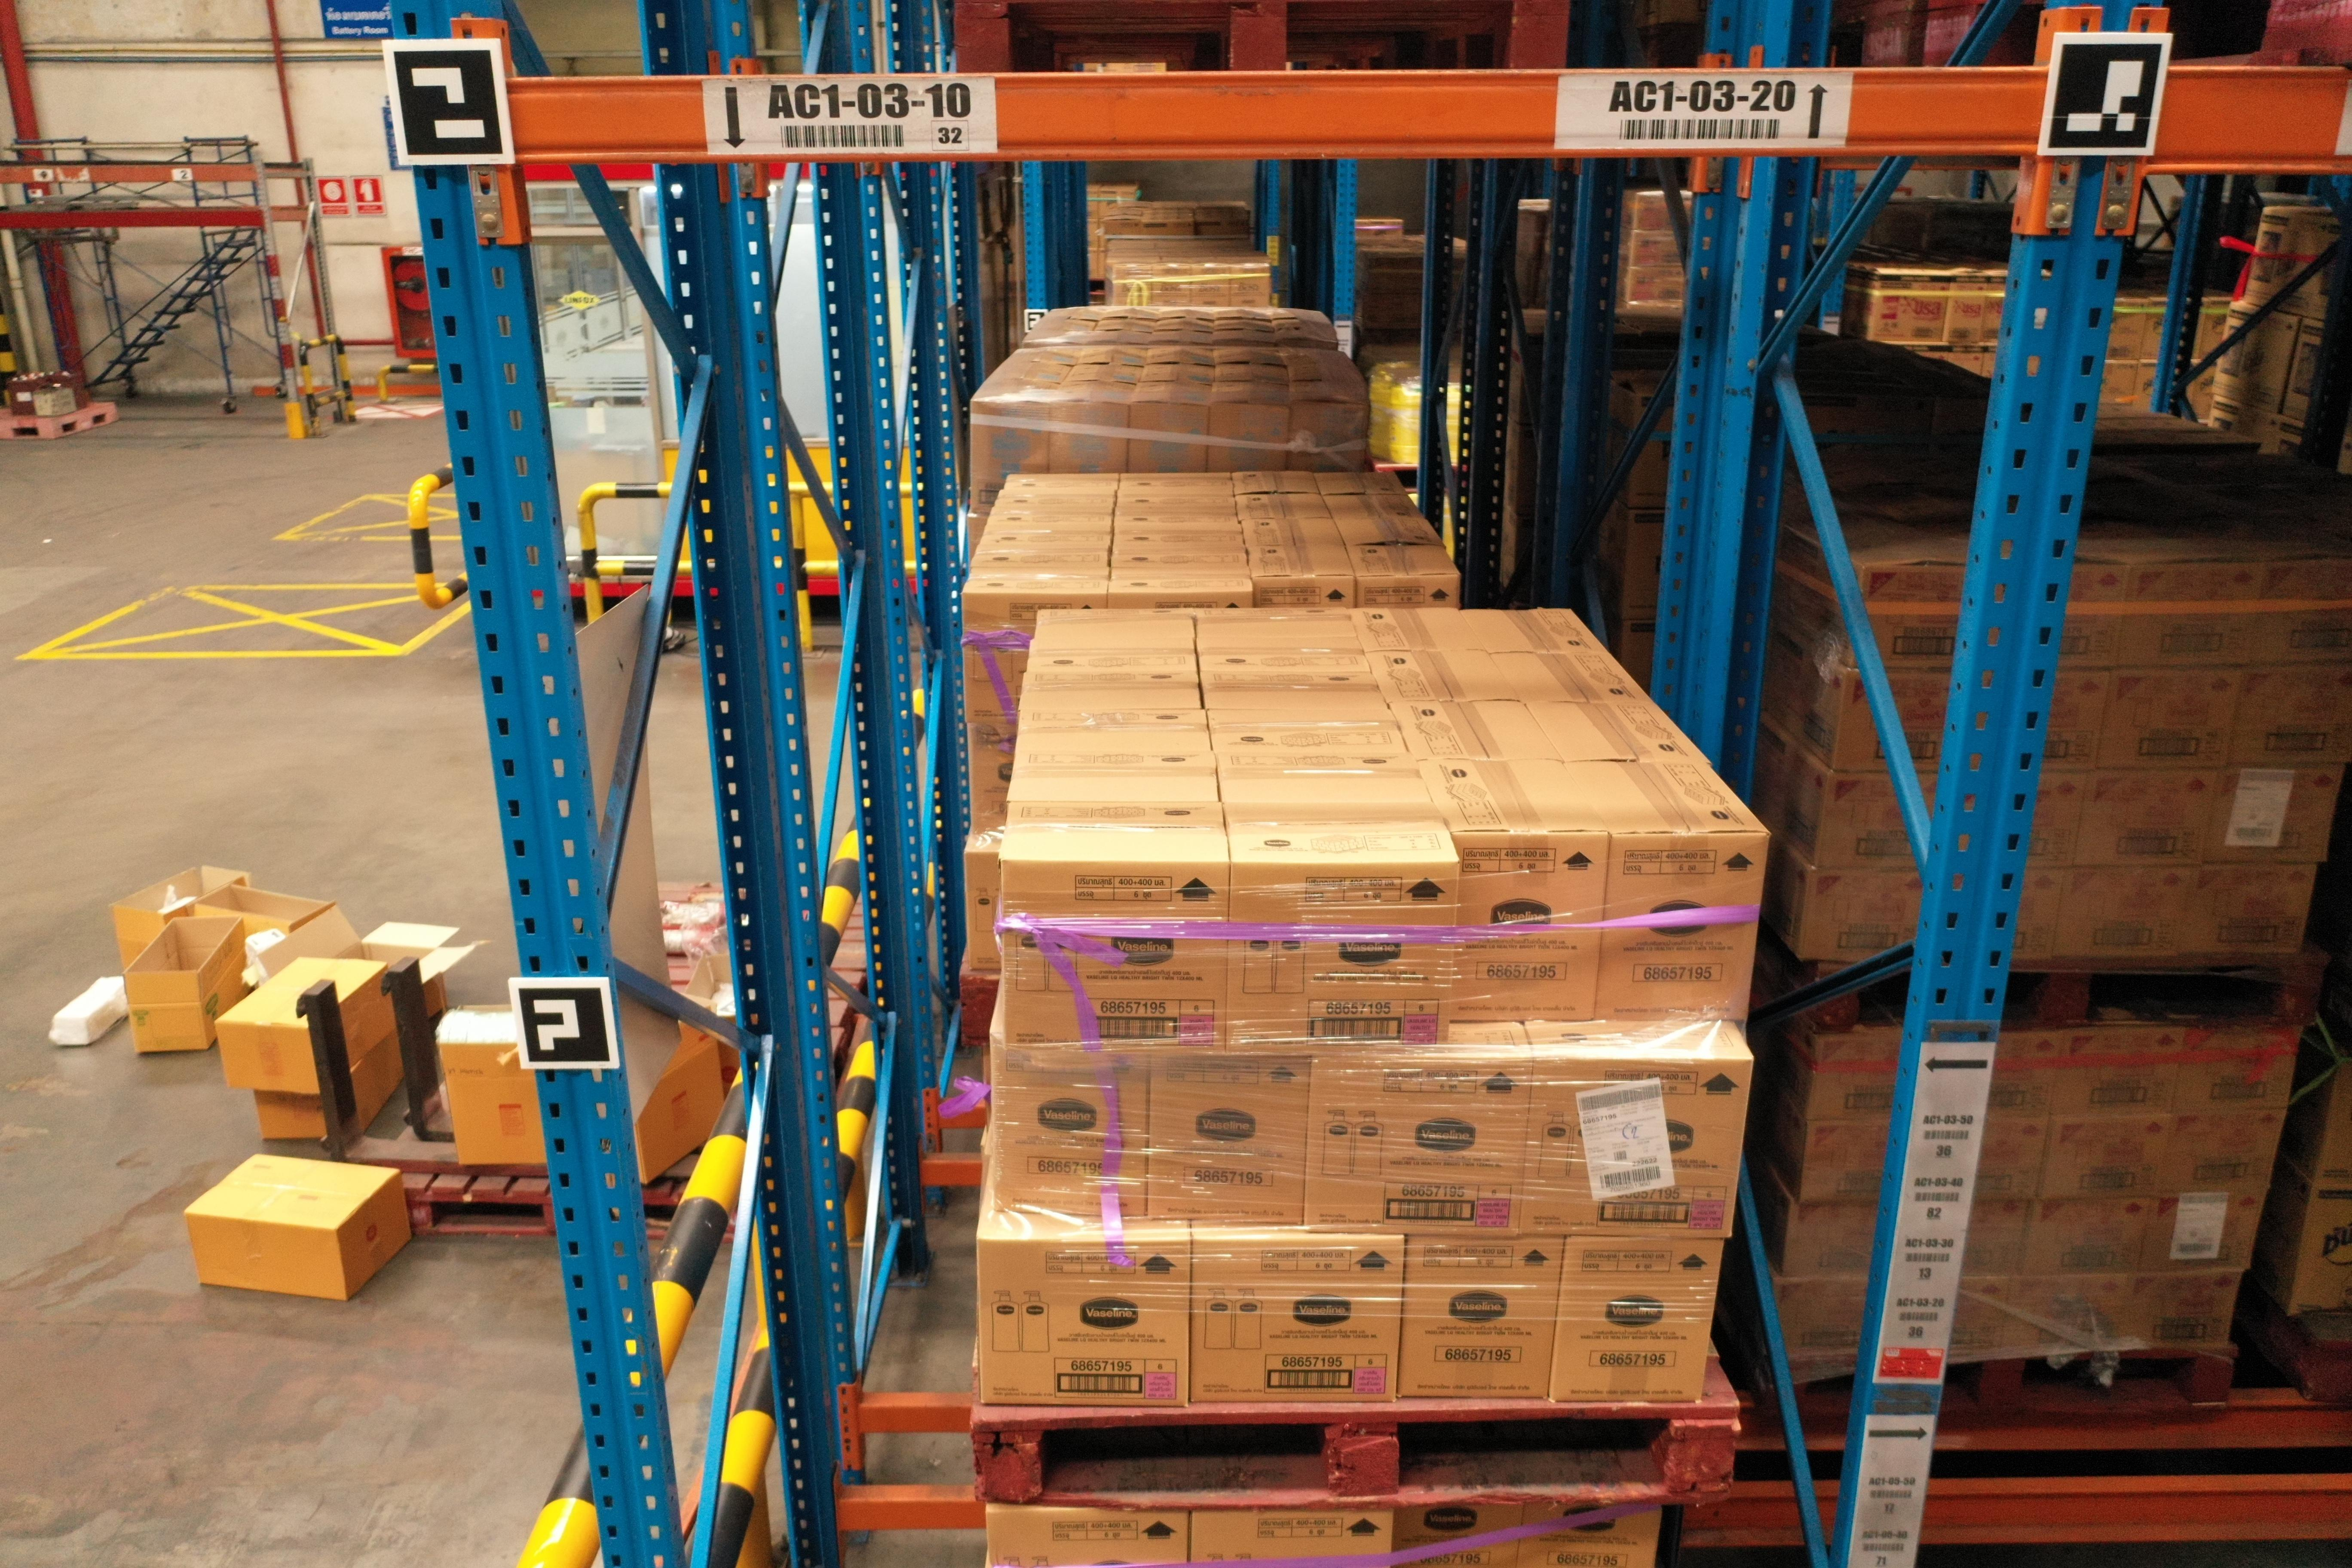-: (1223, 861, 1461, 1055), (1519, 1055, 1755, 1242), (1307, 1046, 1535, 1237), (1001, 857, 1227, 1048), (1185, 1237, 1405, 1403), (976, 1237, 1190, 1407), (1592, 831, 1769, 1024), (1449, 829, 1612, 1024), (990, 1036, 1153, 1221), (1150, 1046, 1312, 1227), (1552, 1234, 1724, 1403), (1395, 1234, 1564, 1398), (983, 1505, 1190, 1568), (1186, 1507, 1391, 1568), (1515, 1501, 1664, 1568), (1388, 1507, 1524, 1568)
box: (2114, 558, 2277, 668), (2095, 667, 2245, 770), (2201, 765, 2347, 868), (2075, 766, 2222, 864), (2056, 861, 2198, 961), (1797, 864, 1930, 968), (2046, 1027, 2180, 1123), (1836, 667, 1951, 779), (1816, 770, 1944, 870), (2037, 1115, 2173, 1207), (2229, 668, 2352, 772), (2180, 864, 2319, 955), (1855, 563, 1969, 670), (2250, 556, 2352, 668), (2018, 1199, 2154, 1281), (2175, 1031, 2298, 1122), (2158, 1113, 2287, 1197), (2004, 1276, 2138, 1356), (2140, 1193, 2264, 1274), (1806, 1031, 1904, 1130), (2130, 1270, 2243, 1347), (1781, 1197, 1878, 1283), (2058, 558, 2130, 672), (2039, 668, 2114, 775), (1773, 1283, 1872, 1360), (1802, 1129, 1892, 1209), (1986, 1031, 2063, 1123), (1972, 1122, 2051, 1207), (2026, 773, 2089, 873), (2011, 868, 2072, 964), (1960, 1204, 2035, 1279), (1948, 1276, 2014, 1356)
